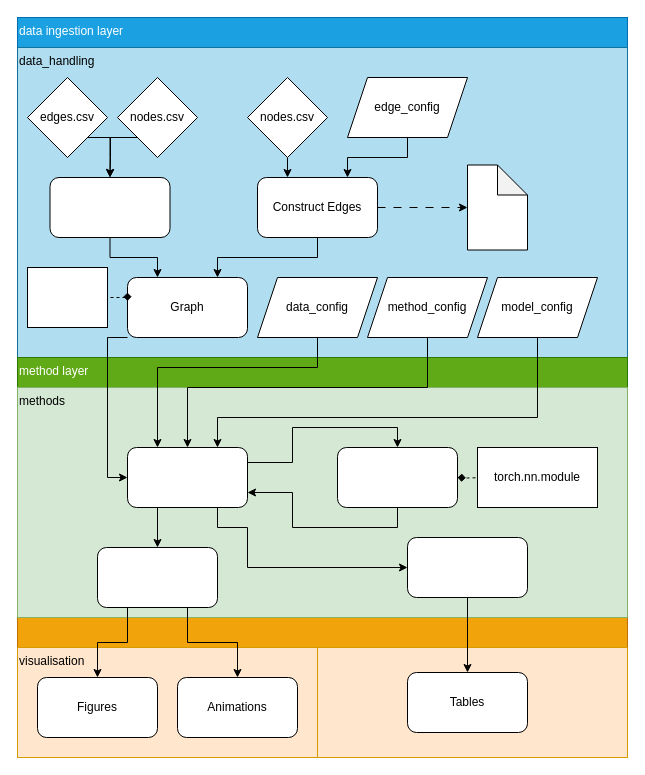
The diagram is 645 pixels wide and 775 high, and some of its shapes have lost their labels. The box of each missing label's shape, as (x1, y1, x2, y2) in pixels:
dgl.Graph: (26, 266, 108, 328)
Graph(Updated): (96, 546, 218, 608)
Load Graph: (49, 176, 170, 238)
Metrics: (406, 536, 528, 598)
ML Method: (126, 446, 248, 508)
Model: (336, 446, 458, 508)
reporting layer: (16, 616, 628, 758)
results: (316, 646, 628, 758)
save edges: (466, 164, 528, 250)
